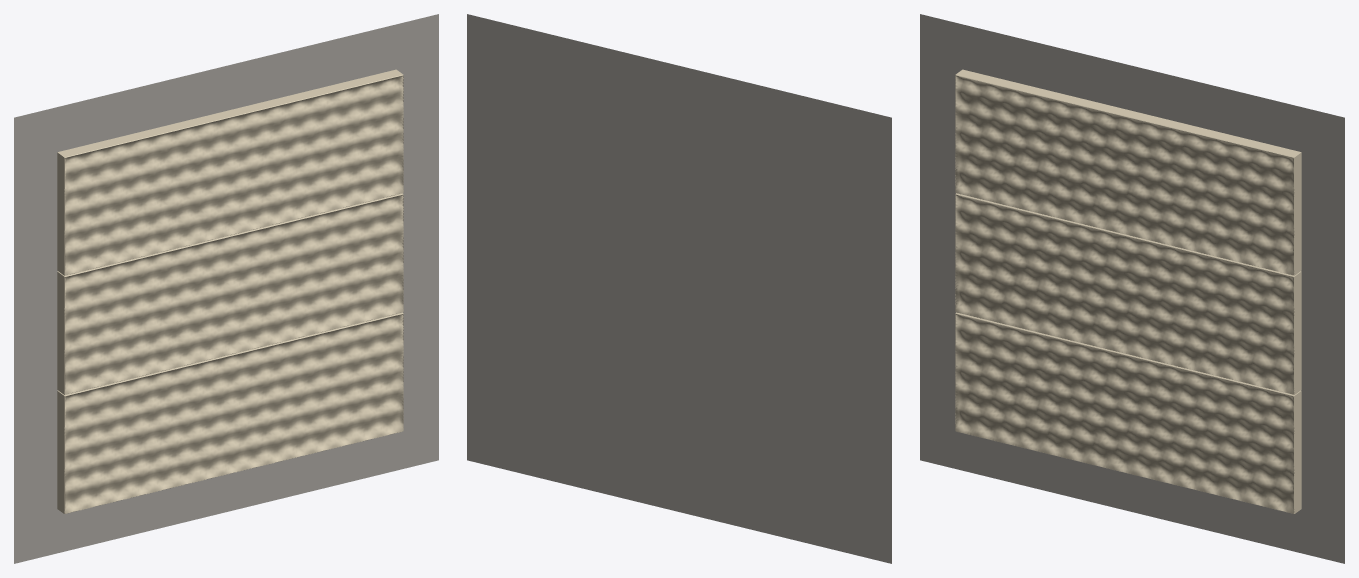
File: terilgan.glb
3 views of the same model, side by side, from view 1: azimuth 30°, elevation 25°; view 2: azimuth 150°, elevation 25°; view 3: azimuth 330°, elevation 25° (orthographic).
Visible parts, largest first — view 1: Plane, t2_0, t1_0, t0_0; view 2: Plane; view 3: Plane, t2_0, t1_0, t0_0.
Boxes of the visible parts, left/top/right/bottom form: Plane: left=14, top=14, right=438, bottom=563; t2_0: left=57, top=69, right=403, bottom=275; t1_0: left=57, top=193, right=403, bottom=394; t0_0: left=57, top=312, right=403, bottom=513; Plane: left=467, top=14, right=891, bottom=563; Plane: left=920, top=14, right=1344, bottom=563; t2_0: left=955, top=69, right=1301, bottom=275; t1_0: left=955, top=193, right=1301, bottom=394; t0_0: left=955, top=312, right=1301, bottom=513.
Bounding box in the file's own units: 1.5 × 1.51 × 0.047.
